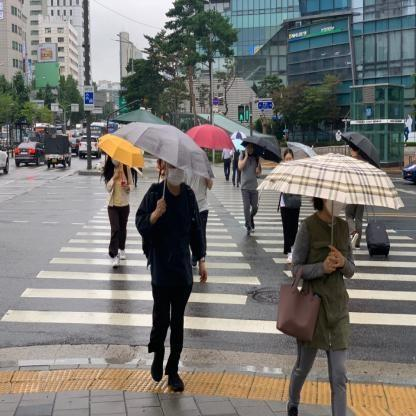Umbrella: (272, 140, 404, 223), (118, 98, 210, 203), (330, 123, 394, 179), (184, 108, 244, 164), (93, 130, 156, 180), (278, 132, 326, 170), (237, 136, 290, 168)
